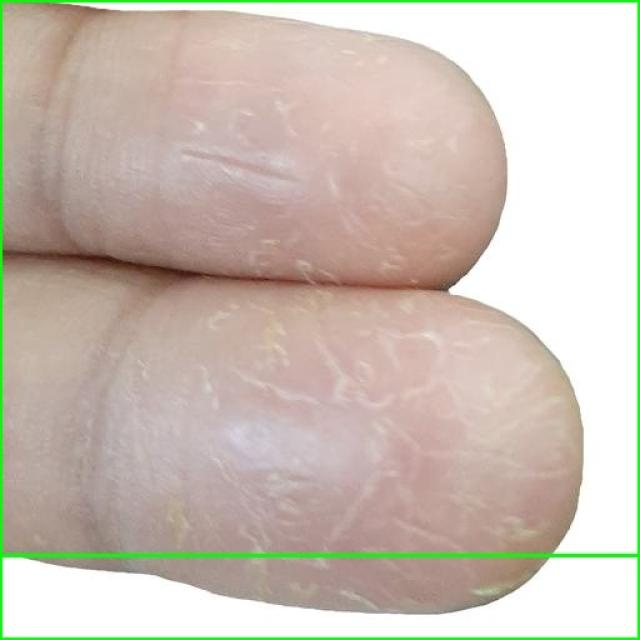Contact Dermatitis: (0, 0, 639, 639), (0, 555, 639, 639)
